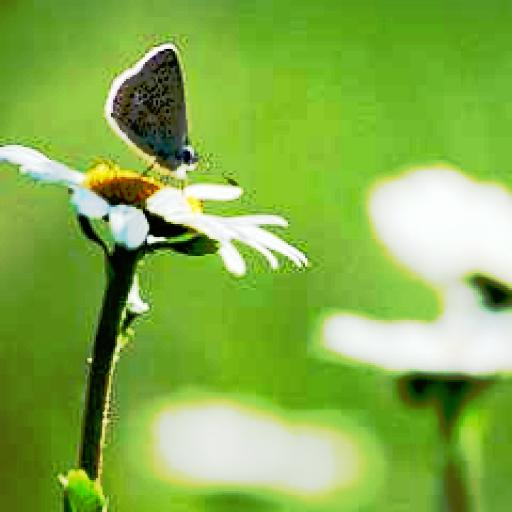daisy: (5, 5, 507, 512)
